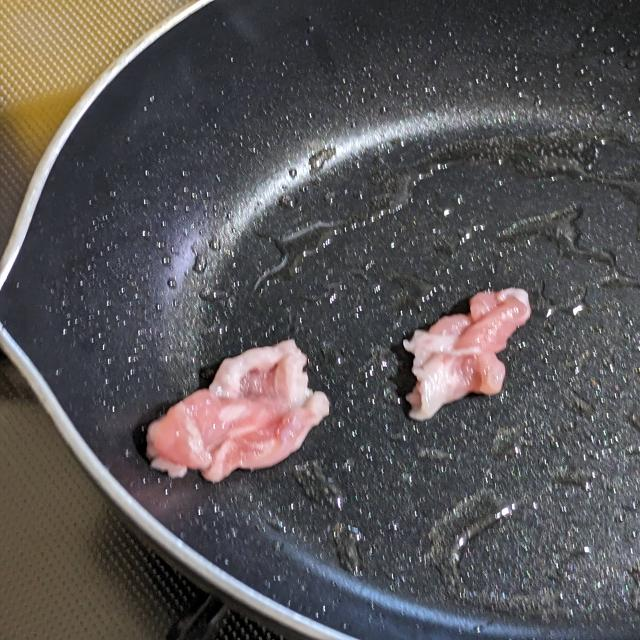NG raw pork,: (132, 333, 346, 489), (397, 278, 547, 429)
